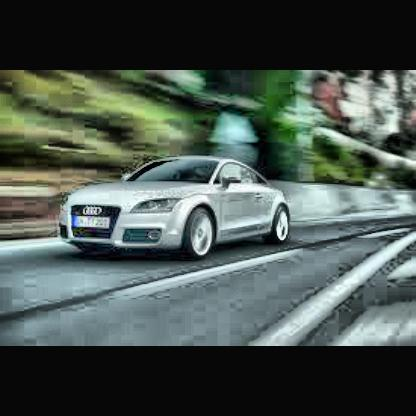Audi TT Hatchback 2011: (56, 151, 293, 267)
